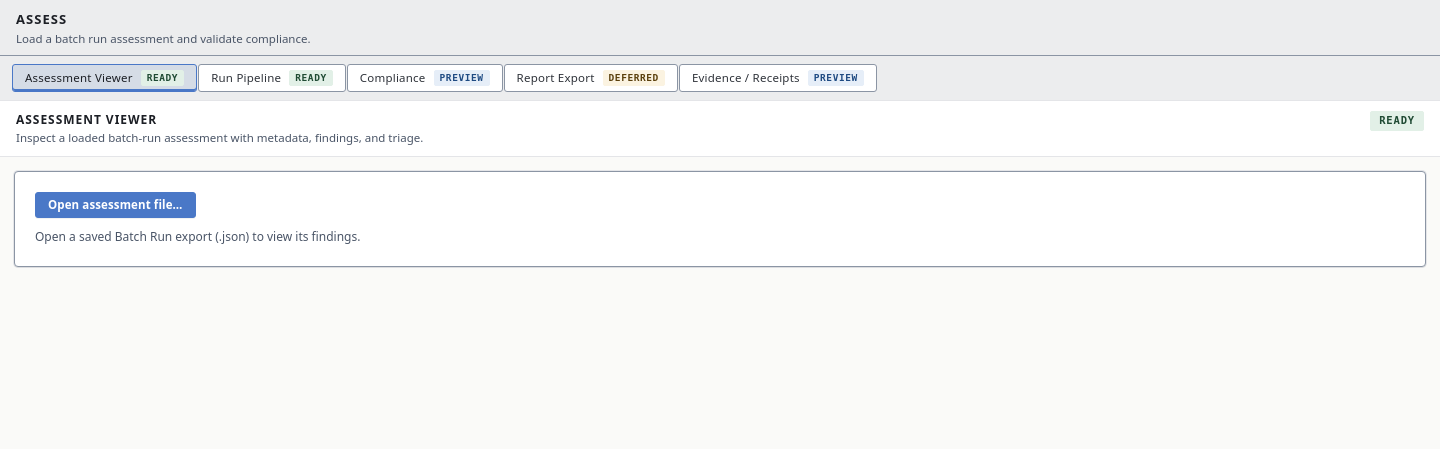
Scenario: AssessPanel — ModeWorkbenchShell integration › clicking report_export shows deferred state with planned controls including Executive summary
The image size is (1440, 449).
What coordinates should you click on to do the following:
click the tab with test id "mwb-tool-report_export"
I would click on:
 (591, 78)
Its box is [504, 64, 678, 92].
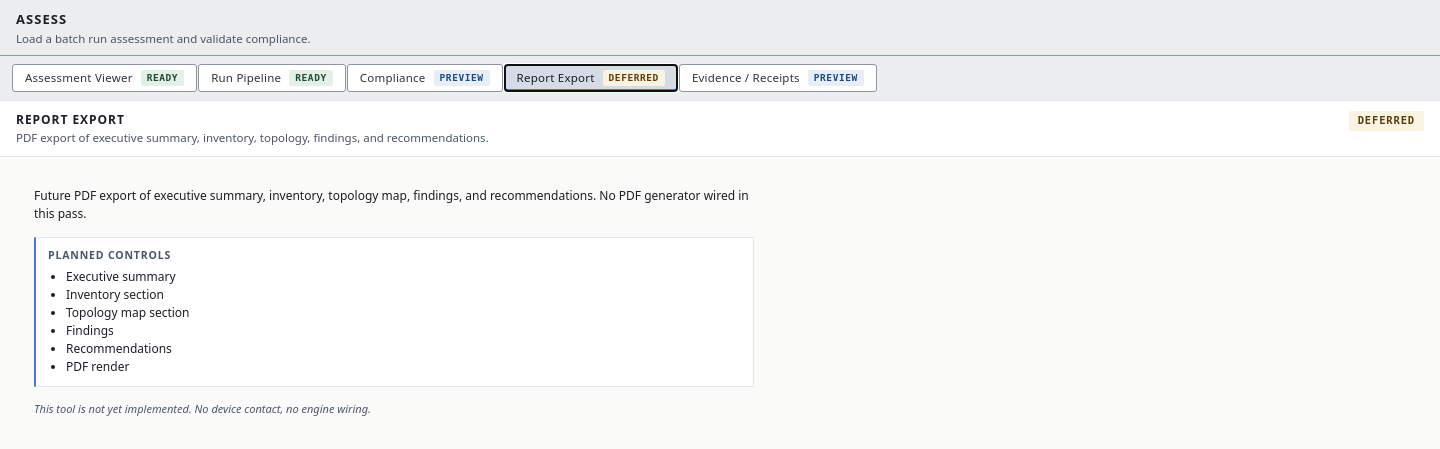
Check: the element with test id "mwb-deferred-report_export" is shown, box [14, 171, 774, 433]
Check: the list item "Executive summary" is shown, box [66, 268, 176, 285]
